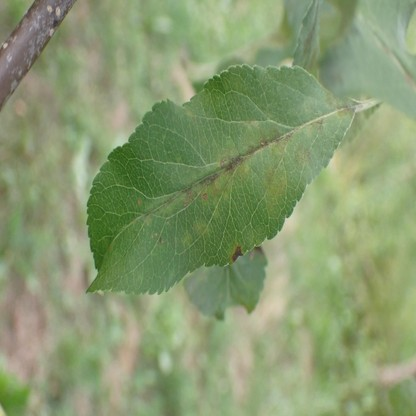scab: (162, 170, 228, 215), (216, 129, 260, 189), (261, 162, 286, 209), (260, 119, 292, 152), (324, 90, 355, 117), (304, 110, 325, 133), (294, 142, 311, 168), (230, 241, 243, 263), (194, 219, 208, 236), (181, 231, 191, 249)
